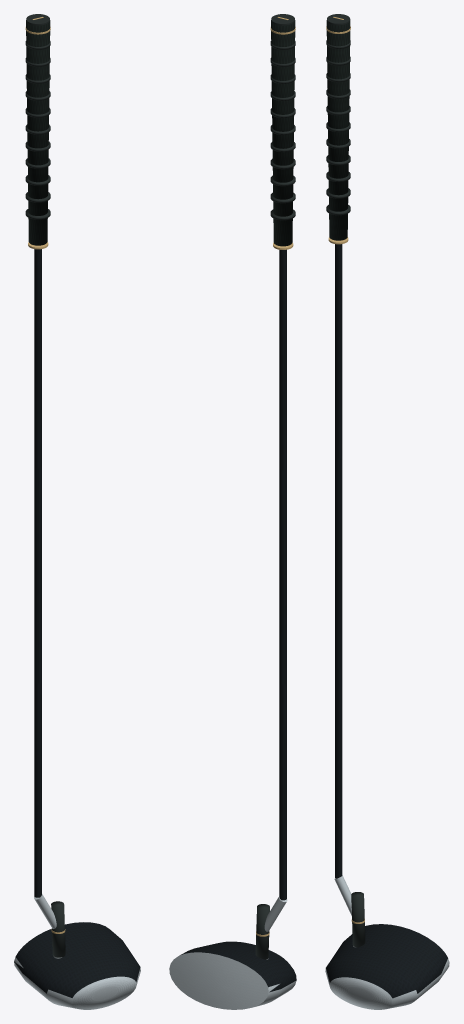
Rendered from driver.glb.
The picture shows the model from 3 angles, left to right: view 1: azimuth 30°, elevation 25°; view 2: azimuth 150°, elevation 25°; view 3: azimuth 330°, elevation 25°; orthographic projection. The views are drawn at different scales.
Visible parts, largest first — view 1: driver finished head.003, driver concentric shaft, driver grip.004, Ferrule.010, Hosel transition; view 2: driver finished head.003, driver concentric shaft, driver grip.004, Ferrule.010, Hosel transition; view 3: driver finished head.003, driver concentric shaft, driver grip.004, Ferrule.010.
Boxes of the visible parts, bbox=[...] form: driver finished head.003: bbox=[14, 922, 140, 1009]; driver concentric shaft: bbox=[34, 249, 41, 897]; driver grip.004: bbox=[26, 20, 50, 245]; Ferrule.010: bbox=[51, 901, 65, 957]; Hosel transition: bbox=[34, 894, 56, 928]; driver finished head.003: bbox=[169, 941, 296, 1009]; driver concentric shaft: bbox=[279, 249, 286, 900]; driver grip.004: bbox=[271, 20, 295, 246]; Ferrule.010: bbox=[255, 904, 269, 959]; Hosel transition: bbox=[264, 896, 287, 931]; driver finished head.003: bbox=[325, 924, 449, 1009]; driver concentric shaft: bbox=[335, 244, 342, 878]; driver grip.004: bbox=[326, 20, 350, 240]; Ferrule.010: bbox=[351, 892, 365, 947].
Size of the model in its own units: 0.1318 by 1.16 by 0.1002.
Materials: 5 (3 with a texture image).
